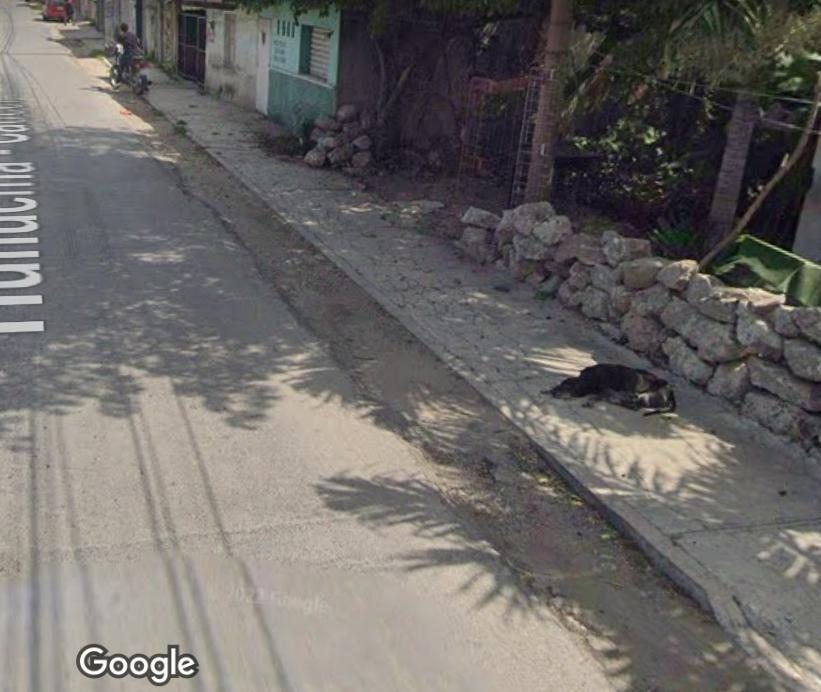normal_dogs: (518, 327, 705, 439)
